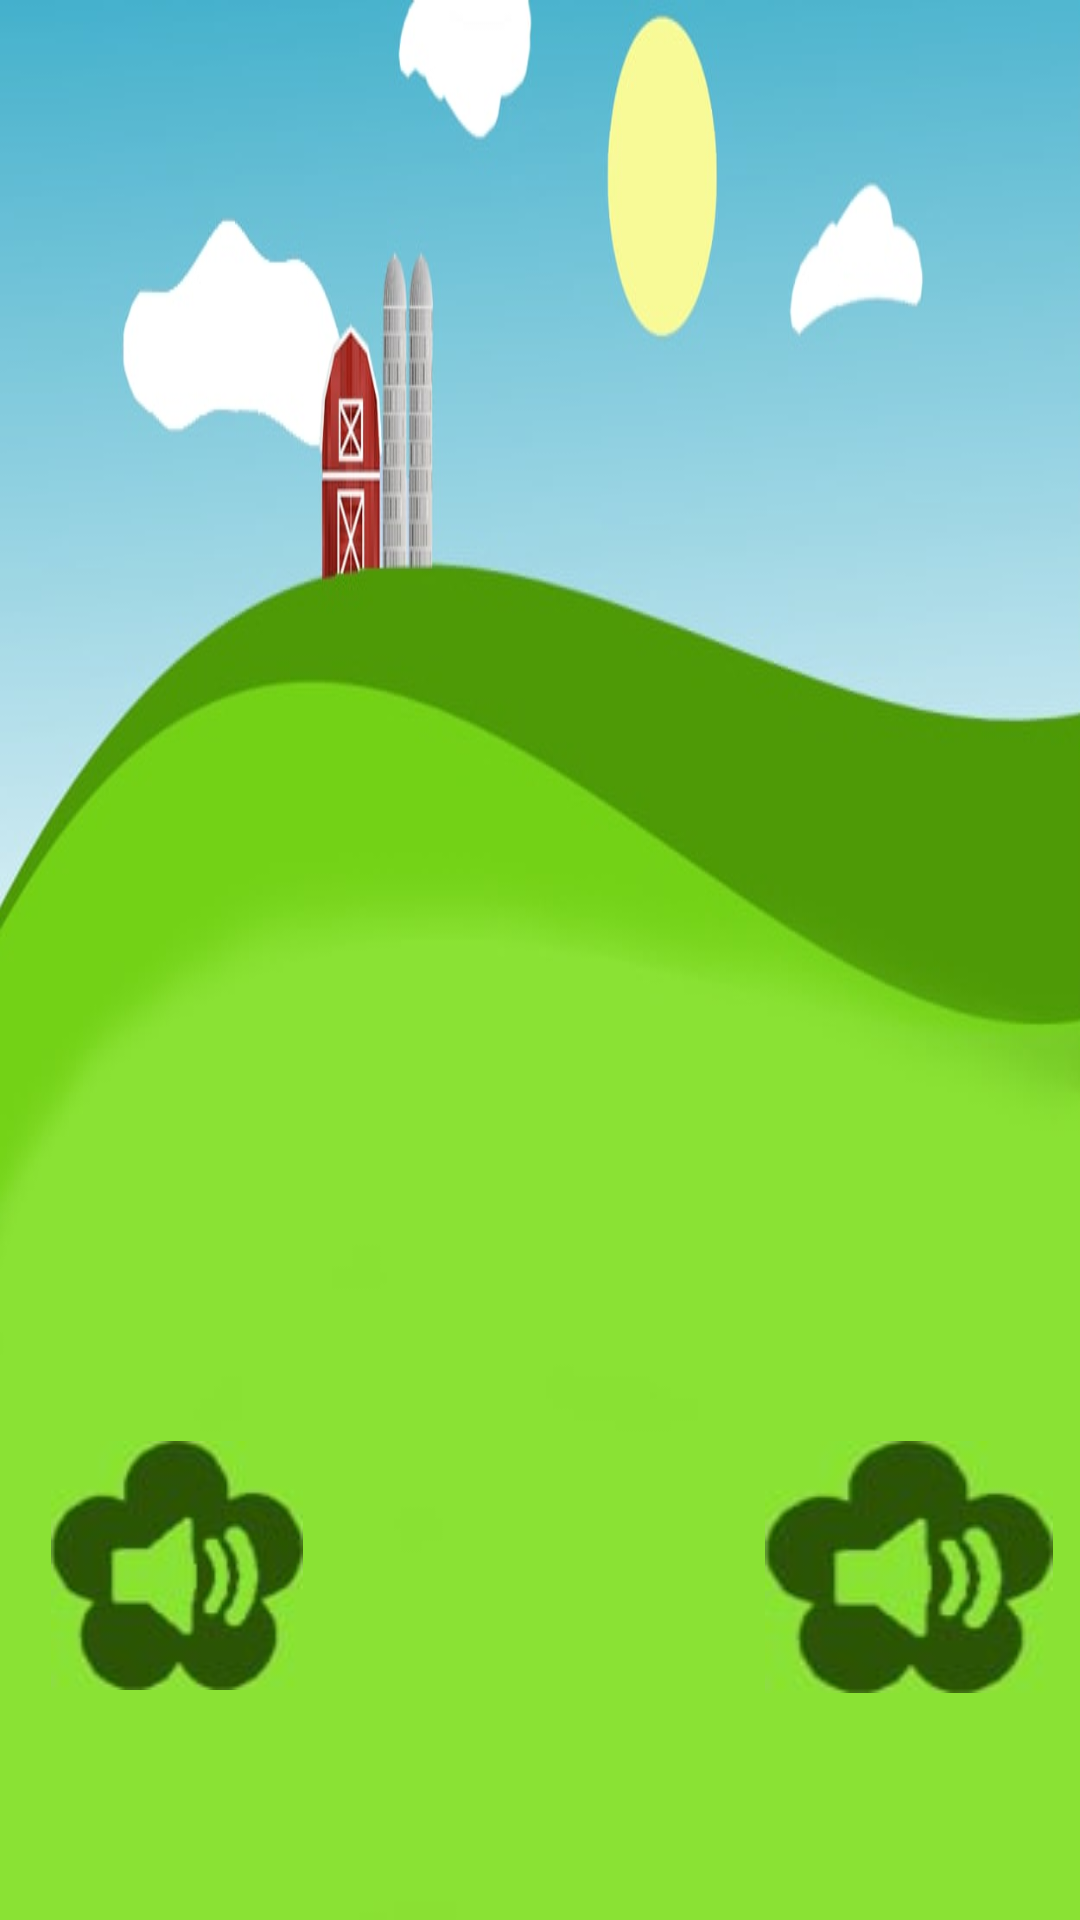

Where icons sit on this 1080 x 1920 app screen, as (x1, y1, x2, y2):
sound: (51, 1441, 303, 1690), (765, 1441, 1053, 1693)
